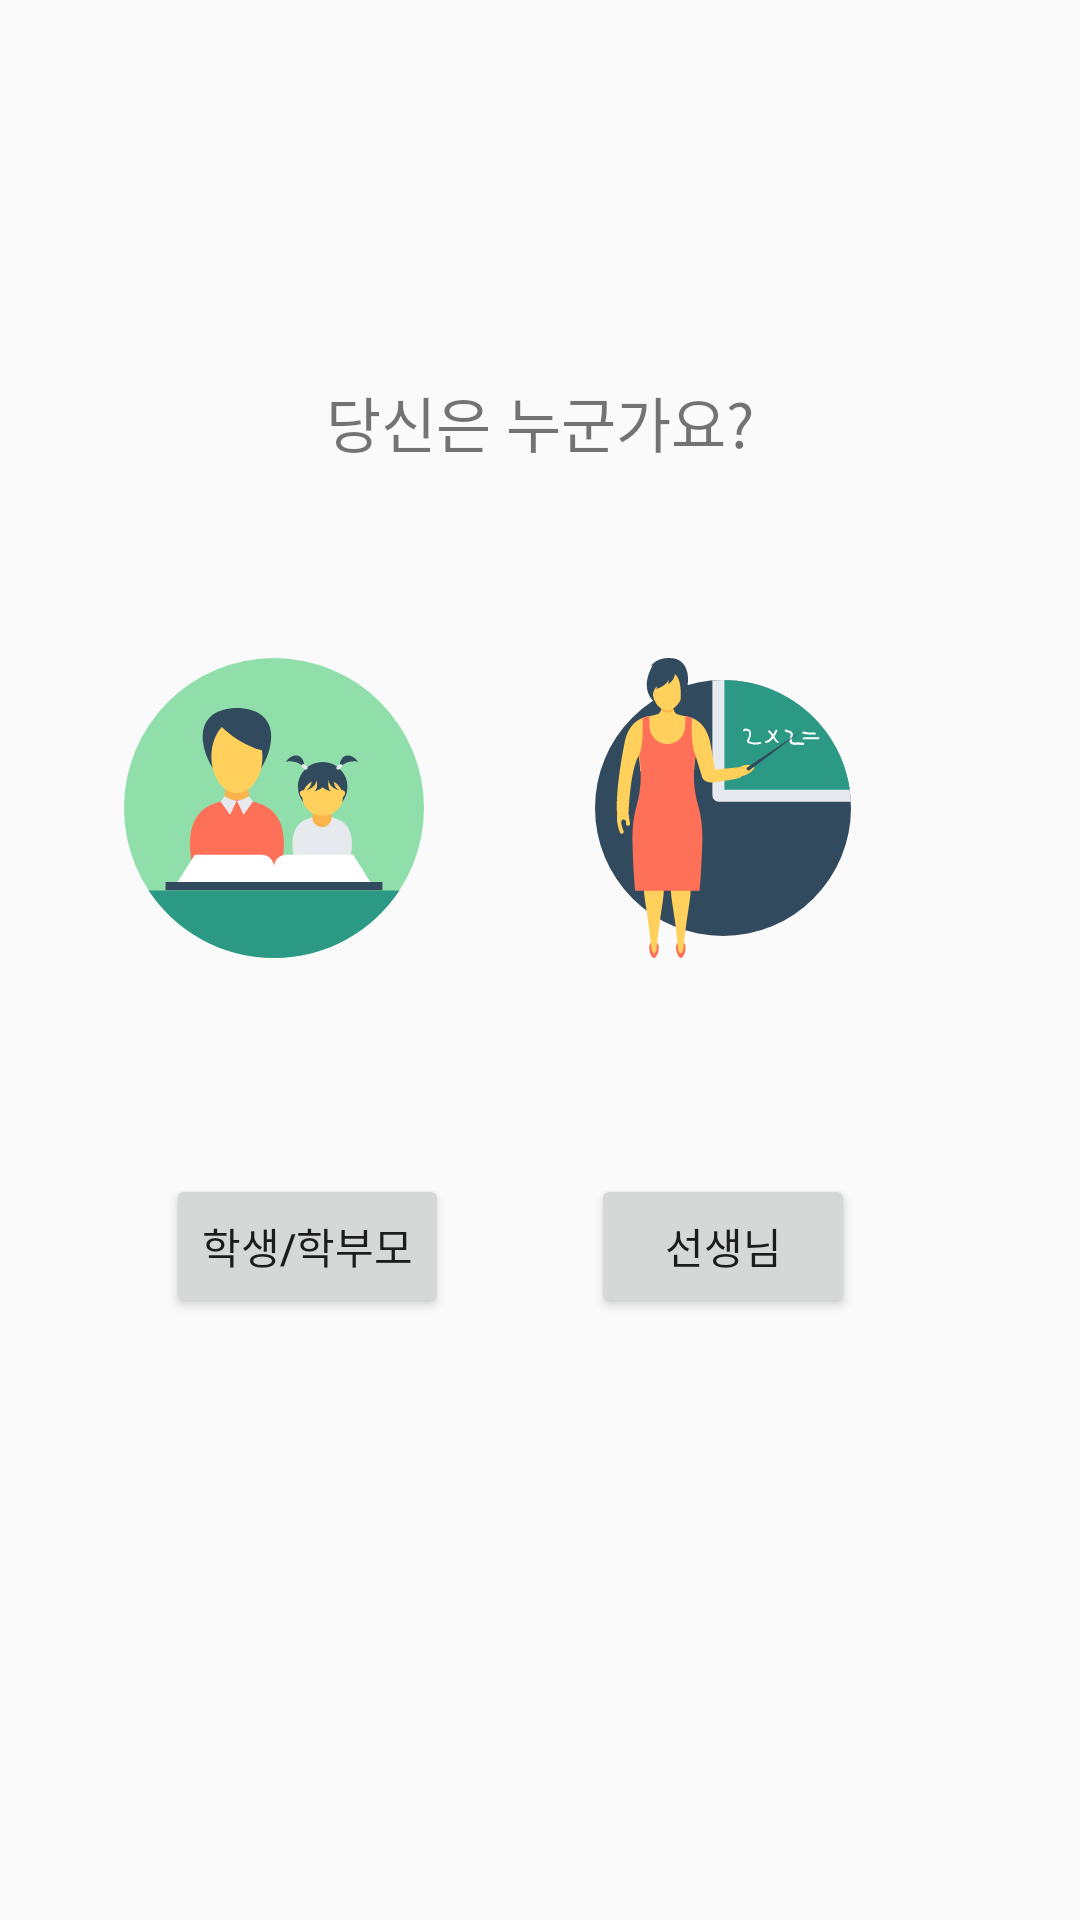

Icon click points for this 1080px x 1920px phone screenshot, format point (x, y):
learning: point (274, 808)
teacher: point (723, 808)
